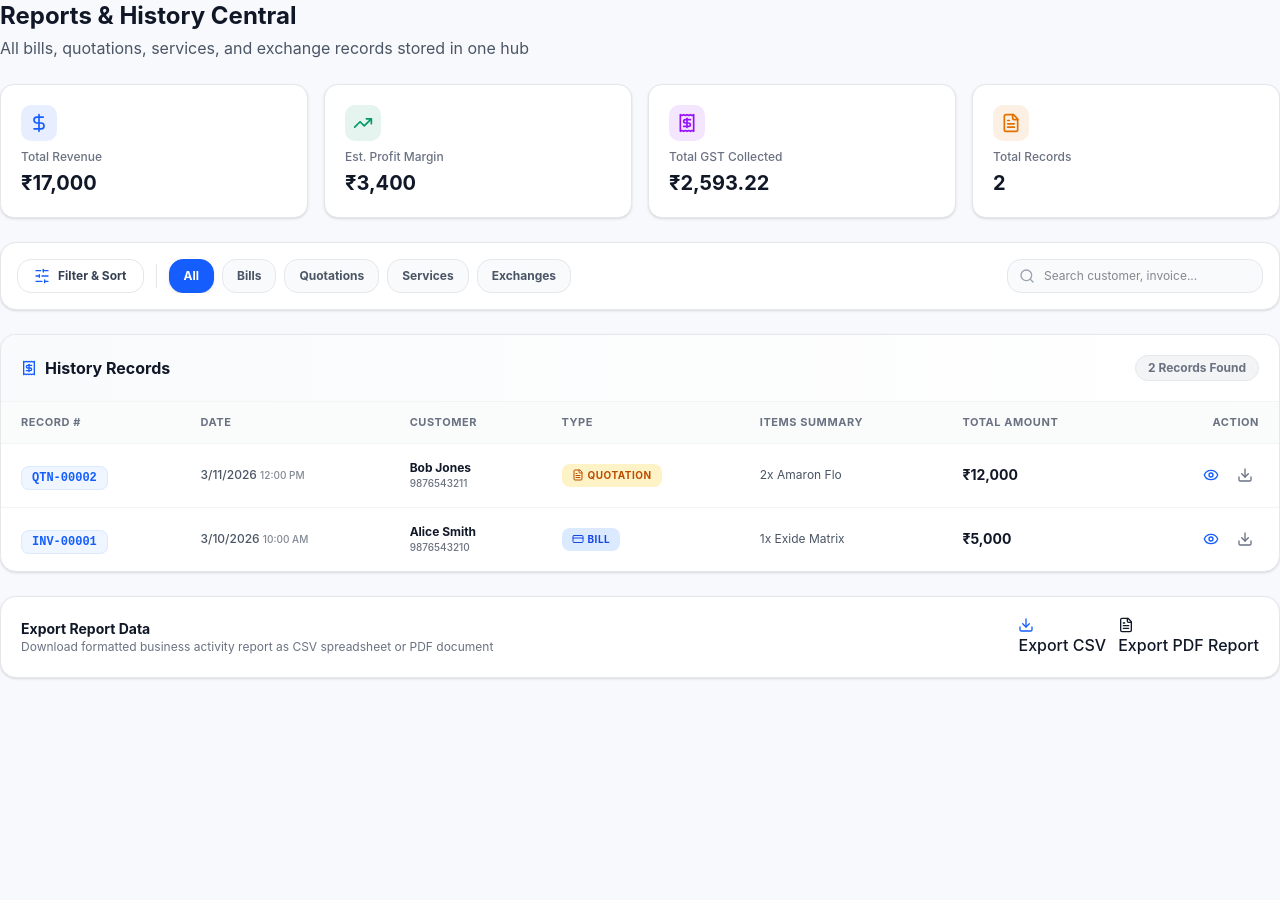
Test: Reports Component › opens Filter & Sort modal and applies custom sorting option
The width and height of the screenshot is (1280, 900).
expect the text "Alice Smith" is shown: met, box [410,524,476,538]
Click the button with aria-label "Filter and Sort Records" at (80, 276), box [17,259,144,293]
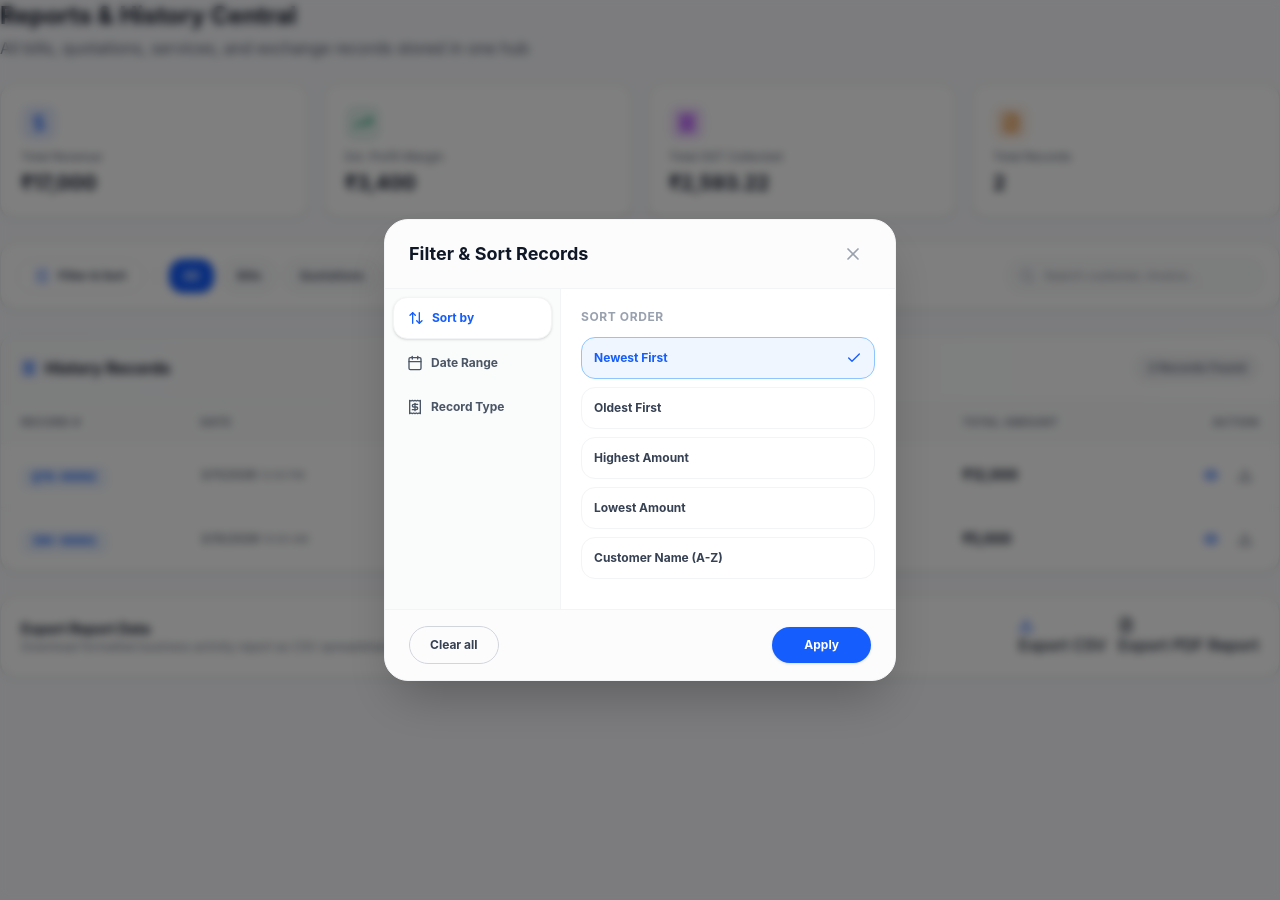
expect the heading "Filter & Sort Records" is shown: met, box [409,240,588,268]
Click the button "Highest Amount" at (641, 458), box [581,437,875,479]
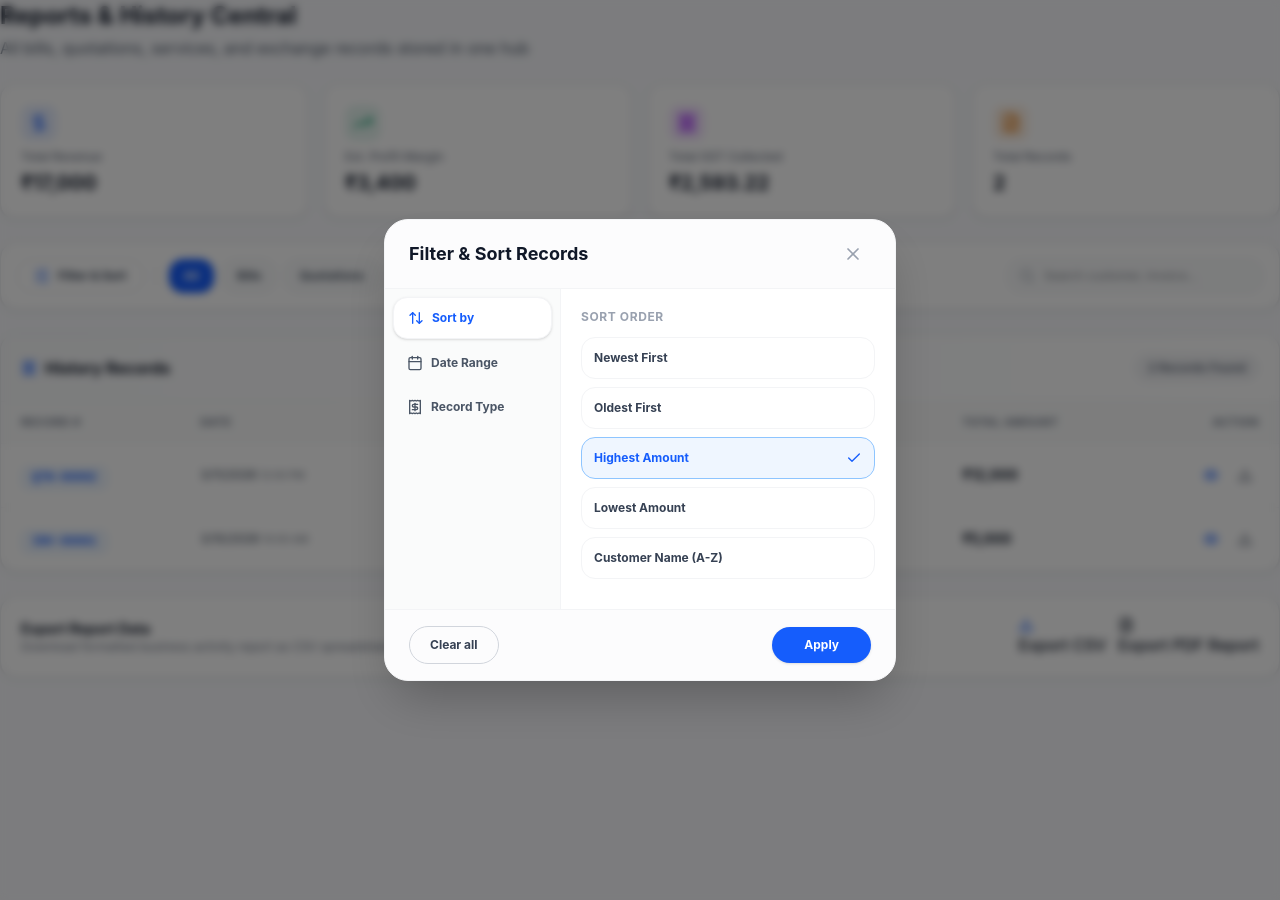
Click the button "Apply" at (822, 645), box [772,627,871,663]
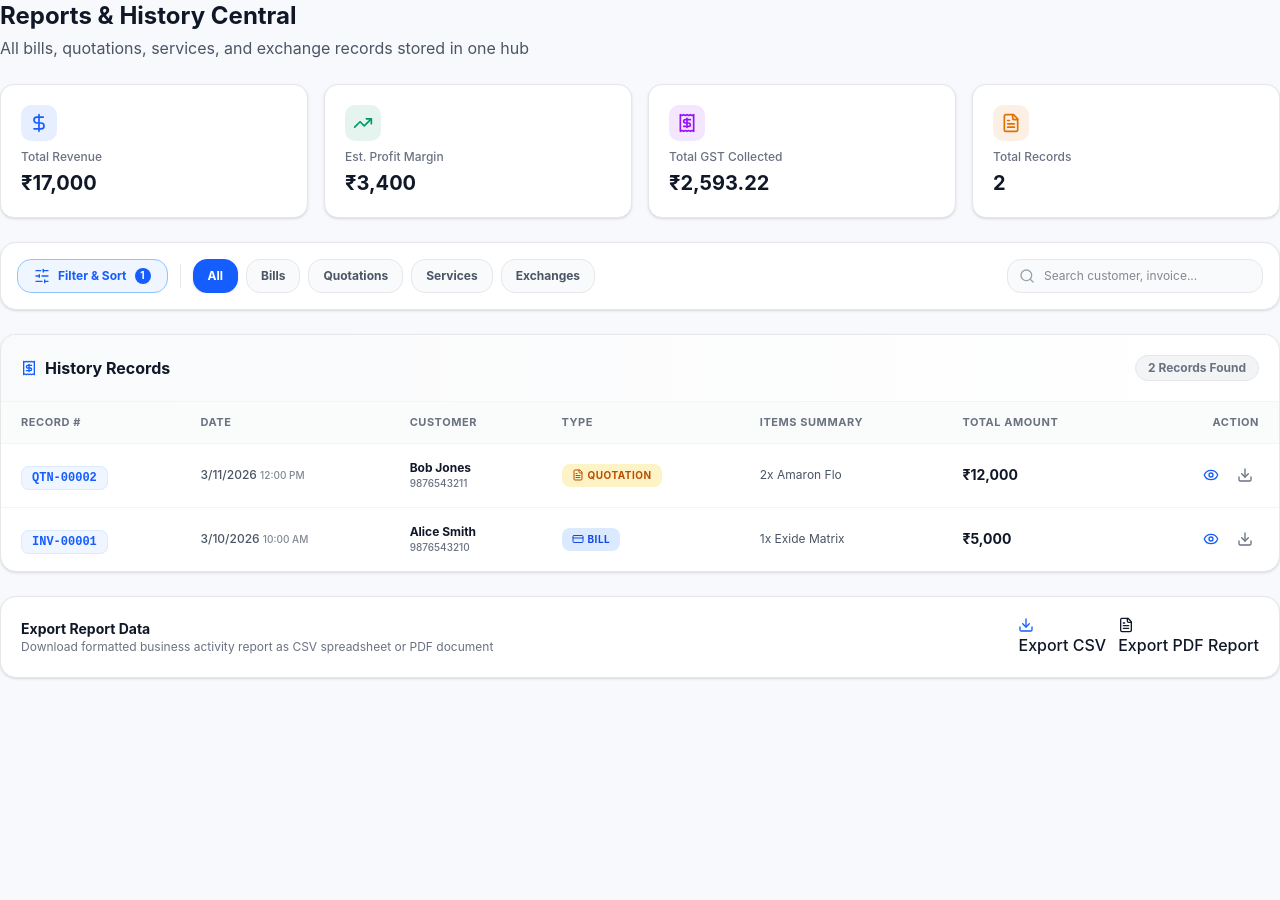
expect the heading "Filter & Sort Records" is gone: met
